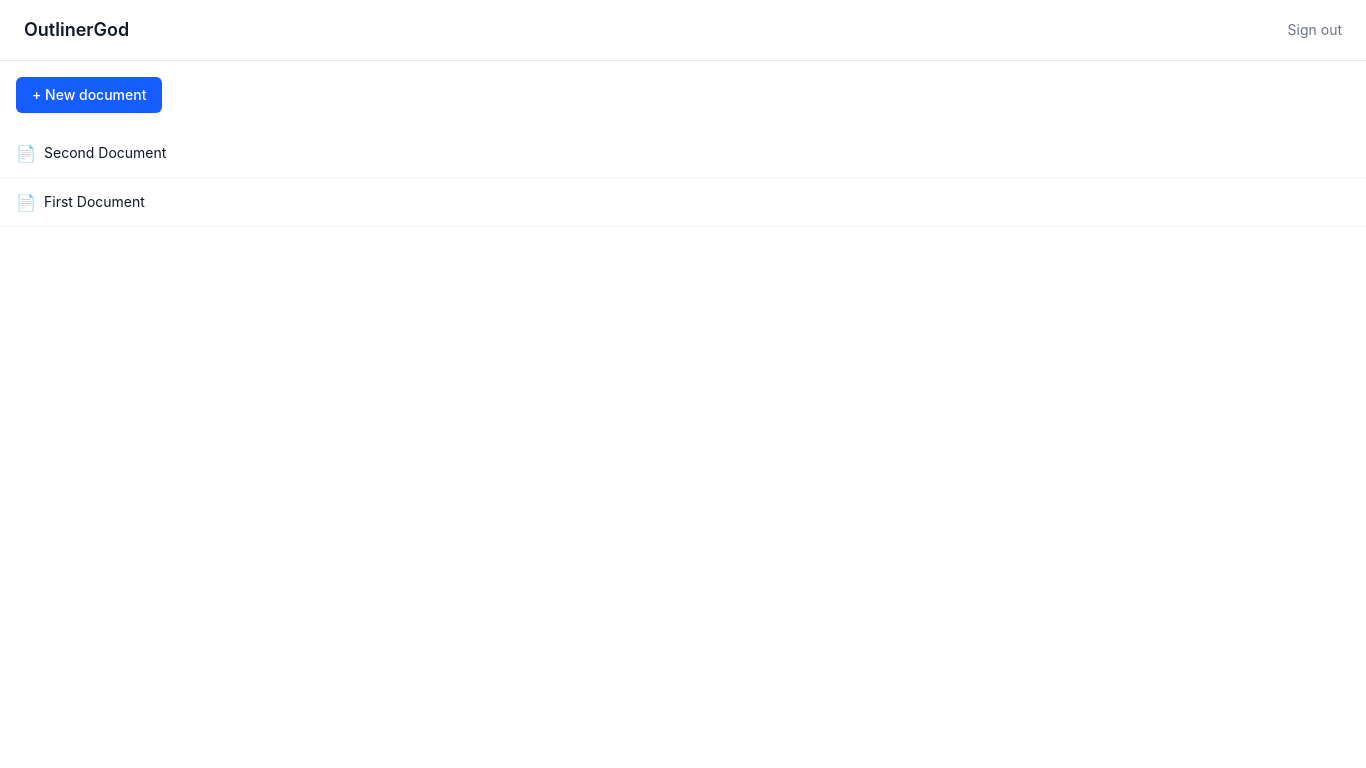
Test: DOC-04 — Delete › Test 11: clicking "Delete" in context menu shows confirmation dialog with document title
The image size is (1366, 768).
Right-click the text "First Document" at (94,202), box left=44, top=192, right=145, bottom=212
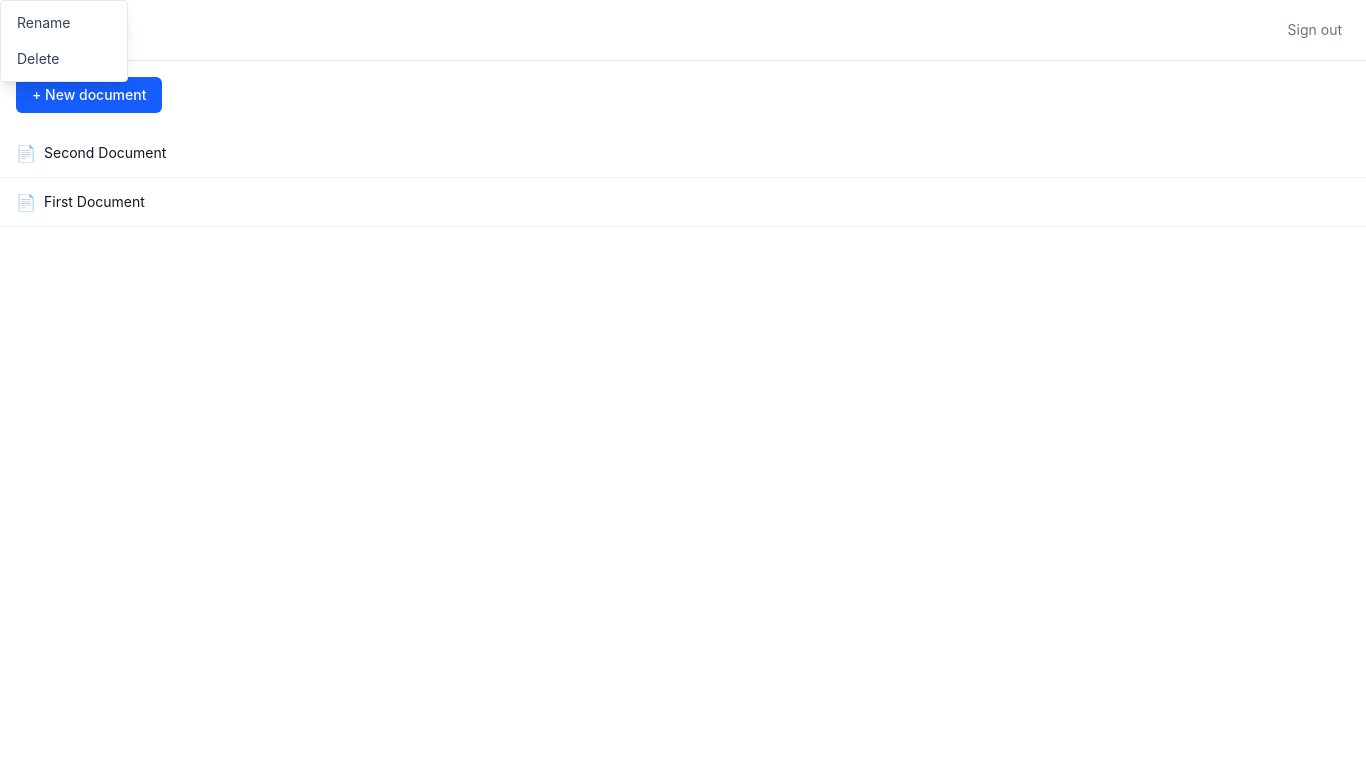
Expected: the button "Delete" is shown
Click the button "Delete" at (64,59), box left=1, top=41, right=127, bottom=77
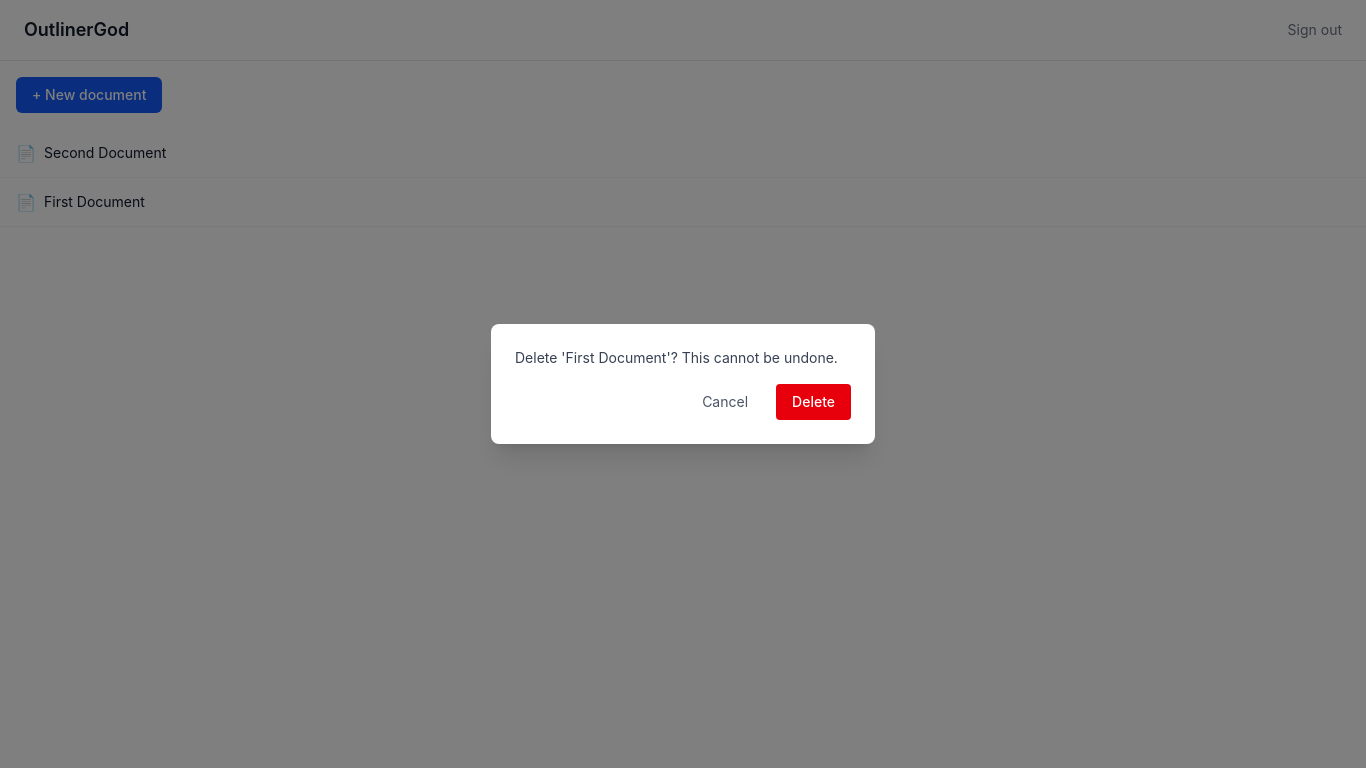
Expected: the dialog is shown, left=491, top=324, right=875, bottom=444
Expected: the dialog shows "First Document", left=566, top=349, right=666, bottom=366
